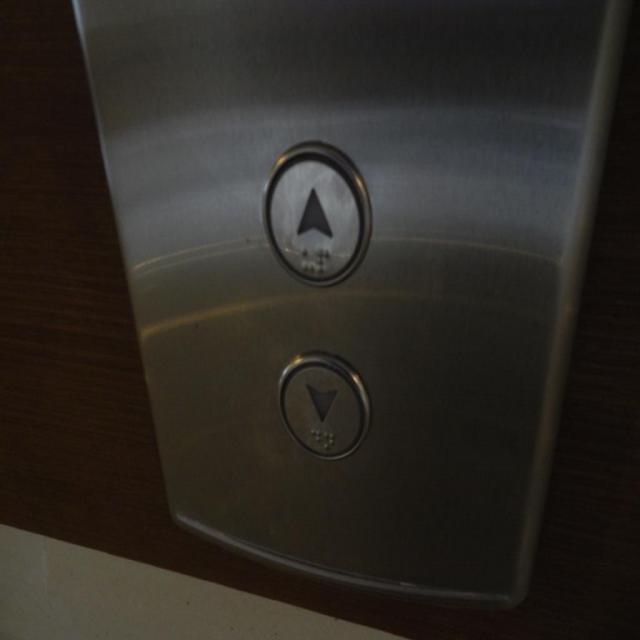down: (277, 352, 374, 465)
up: (260, 140, 376, 287)
